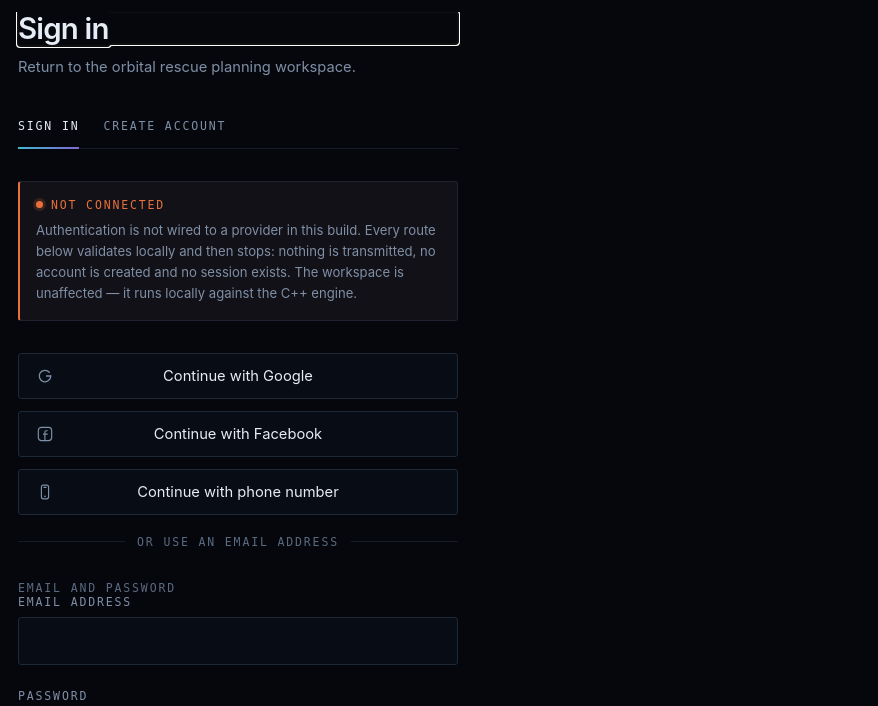
Test: AuthForm: the phone route › reaches the code step, and says there that no code was sent
Click the button "Continue with phone number".
click(238, 492)  # box [18,469,458,515]
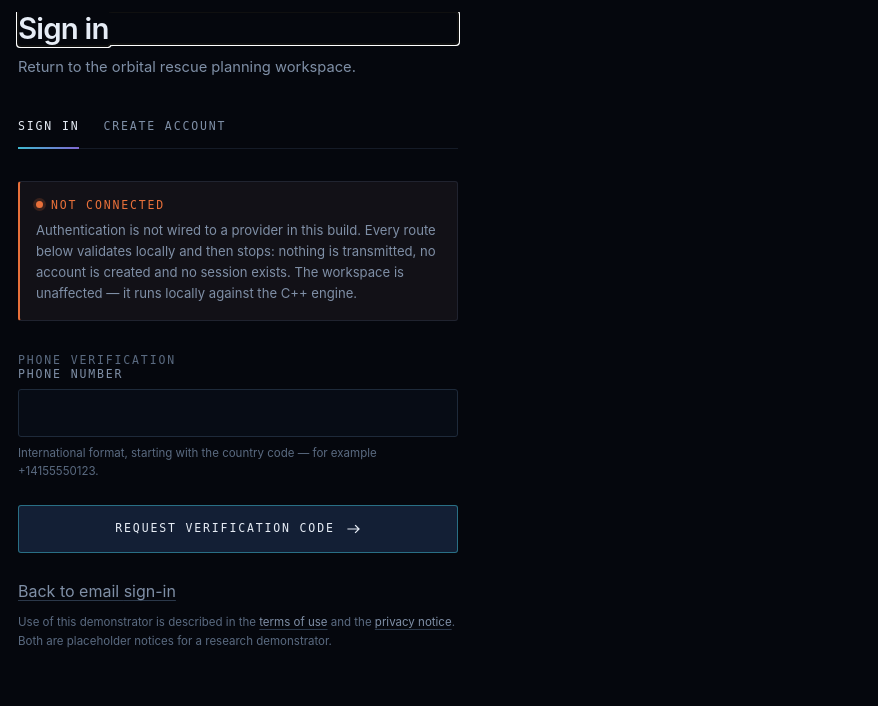
Type "+1 (415) 555-0123" into the field labelled "Phone number".
click(238, 413); type("+1 (415) 555-0123")  # box [18,389,458,437]
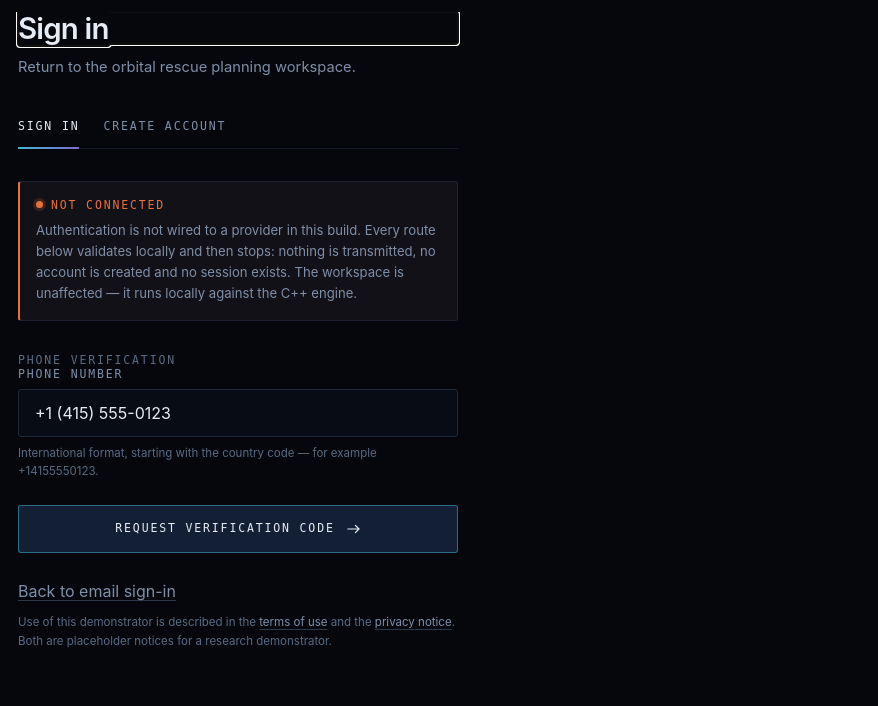
Click the button "Request verification code".
click(238, 529)  # box [18,505,458,553]
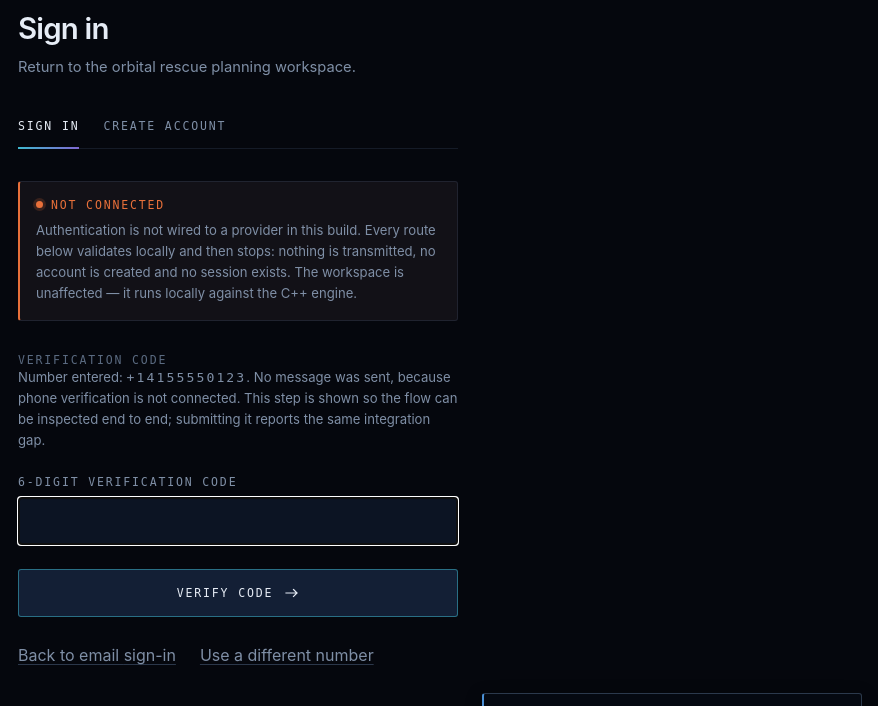
Expected: the text "+14155550123" is shown, [126,370,246,385]
Expected: the field labelled "6-digit verification code" is shown, [18,497,458,545]
Expected: the text "No message was sent, because phone verification is not connected" is shown, [18,369,457,448]
